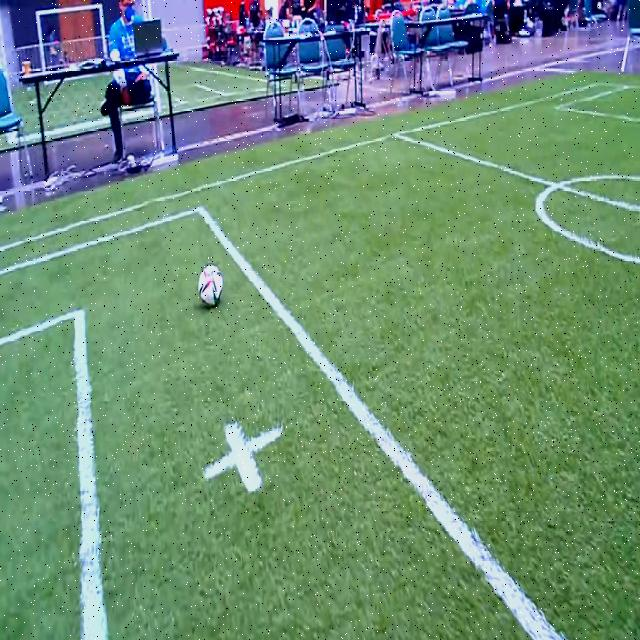ball: (198, 264, 223, 305)
